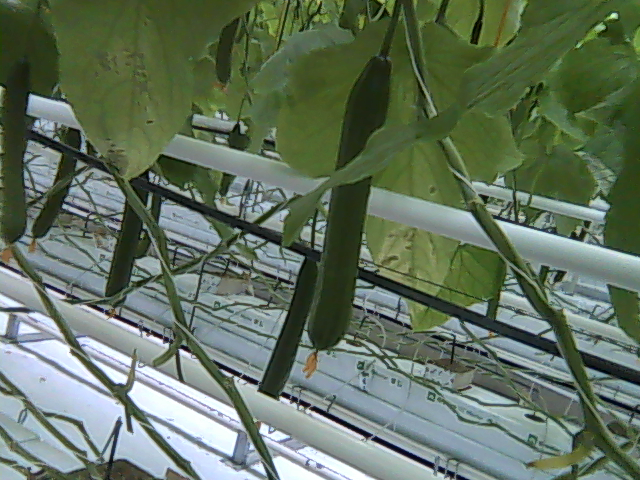concombre: (299, 40, 396, 377), (1, 48, 37, 263)
